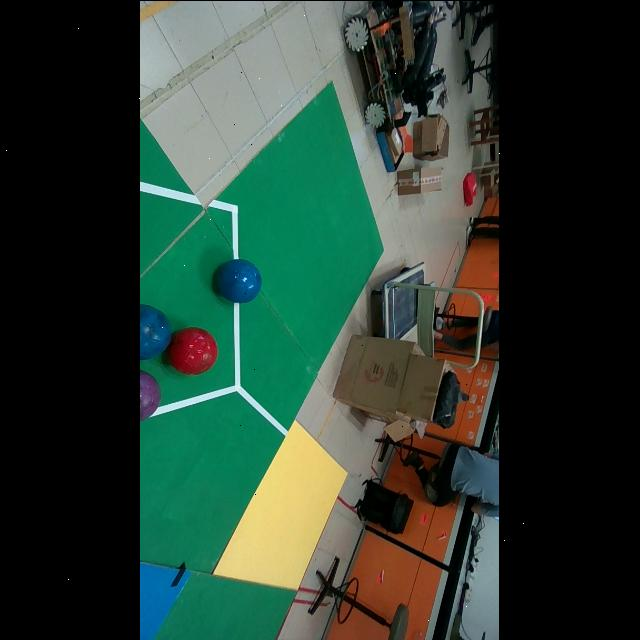B: (216, 258, 263, 303), (140, 304, 173, 359)
P: (140, 369, 162, 421)
R: (168, 326, 219, 375)
